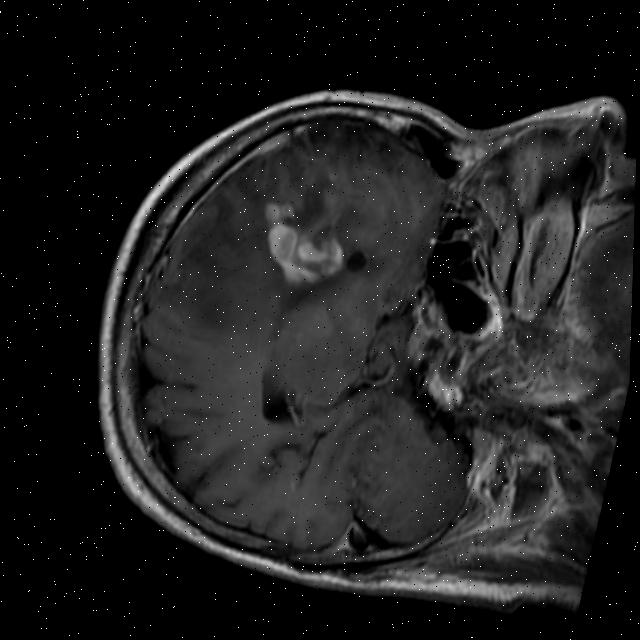Glioma: (249, 197, 355, 296)
